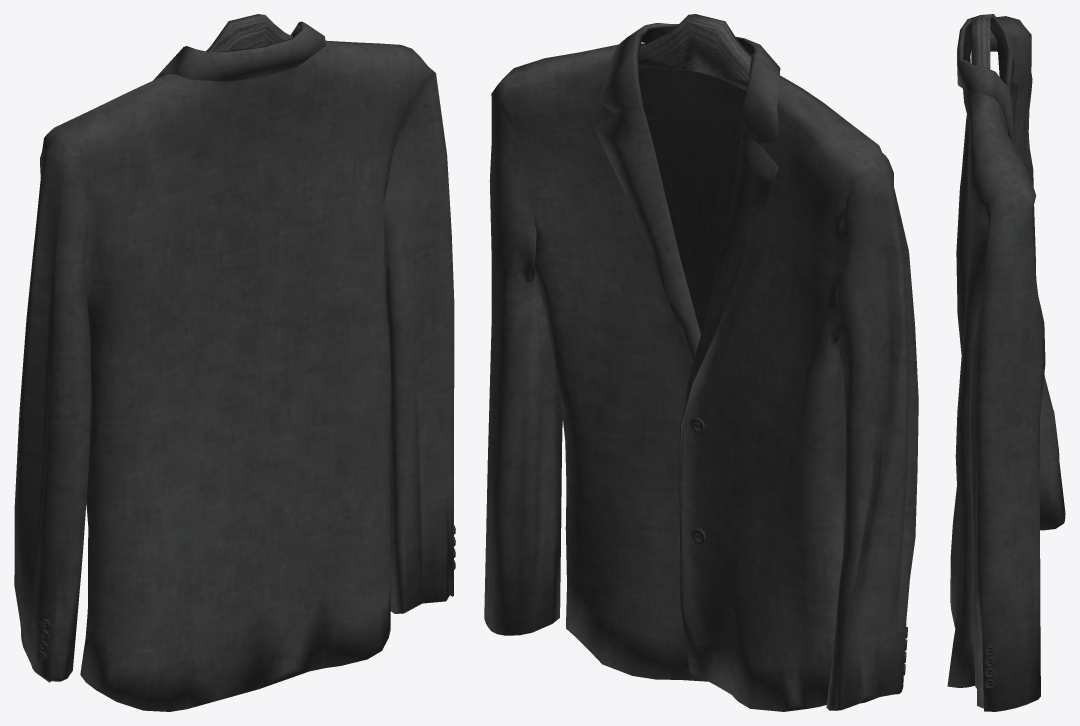
The model's file is hvtop_Clothes_08.glb.
3 renders of one model, left to right at view 1: azimuth 30°, elevation 25°; view 2: azimuth 150°, elevation 25°; view 3: azimuth 270°, elevation 25°, orthographic. The views are drawn at different scales.
Parts seen in each view (by area): view 1: BP_Clothes_08; view 2: BP_Clothes_08; view 3: BP_Clothes_08.
Boxes of the visible parts, left/top/right/bottom form: BP_Clothes_08: left=14, top=14, right=455, bottom=711; BP_Clothes_08: left=484, top=14, right=918, bottom=711; BP_Clothes_08: left=947, top=14, right=1065, bottom=711.
Size of the model in its own units: 0.5395 by 0.8071 by 0.1384.
Materials: 4 (3 with a texture image).
